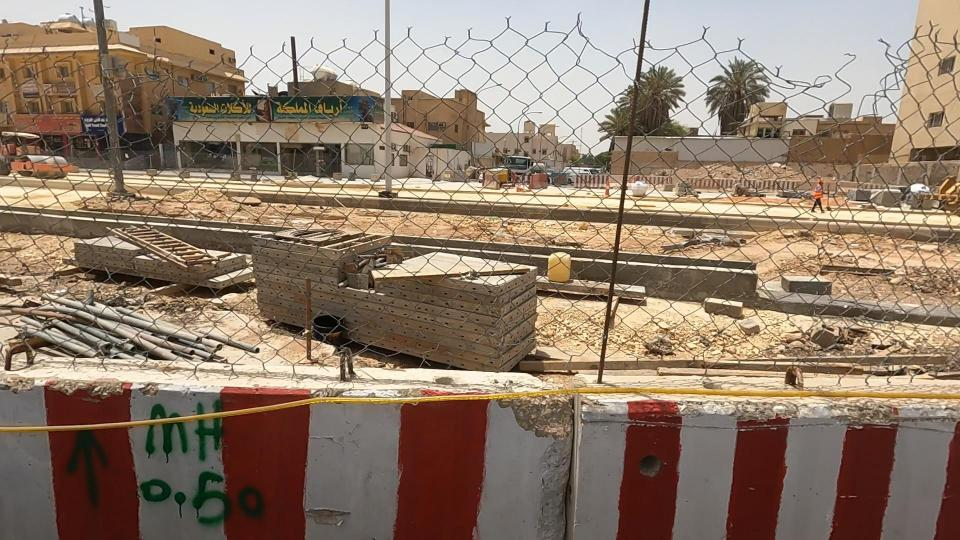BAD_BILLBOARD: (0, 79, 118, 171)
CONSTRUCTION_ROAD: (0, 72, 728, 540), (362, 16, 960, 540)
GARBAGE: (0, 231, 320, 410), (757, 281, 928, 405), (493, 232, 614, 311)
